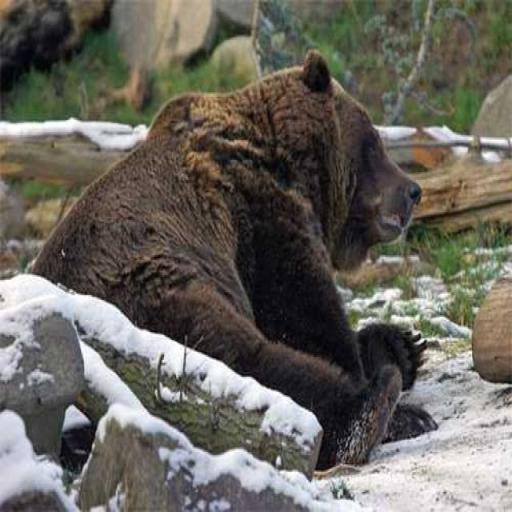Bear: (24, 46, 436, 471)
